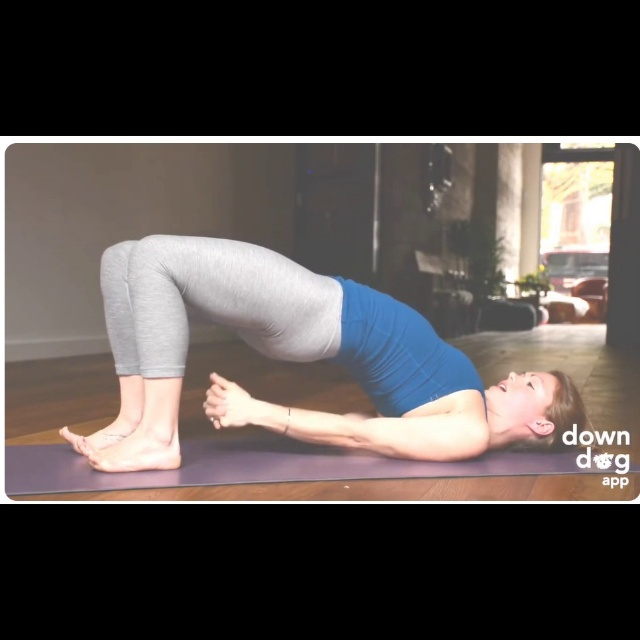Bridge_Pose: (51, 231, 597, 480)
